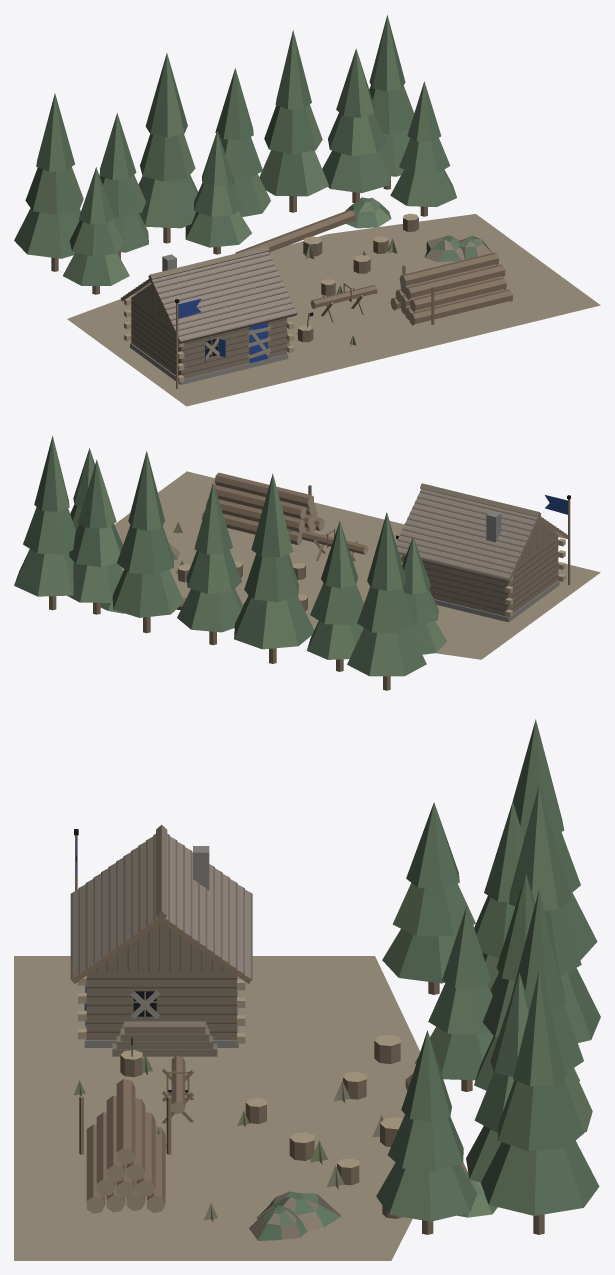
File: holzschlag.glb
The picture shows the model from 3 angles, top to bottom: view 1: azimuth 30°, elevation 25°; view 2: azimuth 150°, elevation 25°; view 3: azimuth 270°, elevation 25°; orthographic projection. The views are drawn at different scales.
Parts seen in each view (by area): view 1: Haus, Arbeit, Leerstand, Fahne; view 2: Haus, Arbeit, Fahne; view 3: Haus, Arbeit, Leerstand.
Part boxes in pixels (box(x1,y1,x2,y2)): Haus: box(14, 15, 600, 406); Arbeit: box(235, 197, 512, 345); Leerstand: box(204, 239, 398, 359); Fahne: box(175, 299, 201, 388); Haus: box(14, 436, 600, 690); Arbeit: box(100, 472, 402, 613); Fahne: box(545, 495, 570, 584); Haus: box(14, 719, 600, 1260); Arbeit: box(79, 1021, 497, 1217); Leerstand: box(73, 985, 383, 1221).
Size of the model in its own units: 22 by 9.65 by 17.89.
